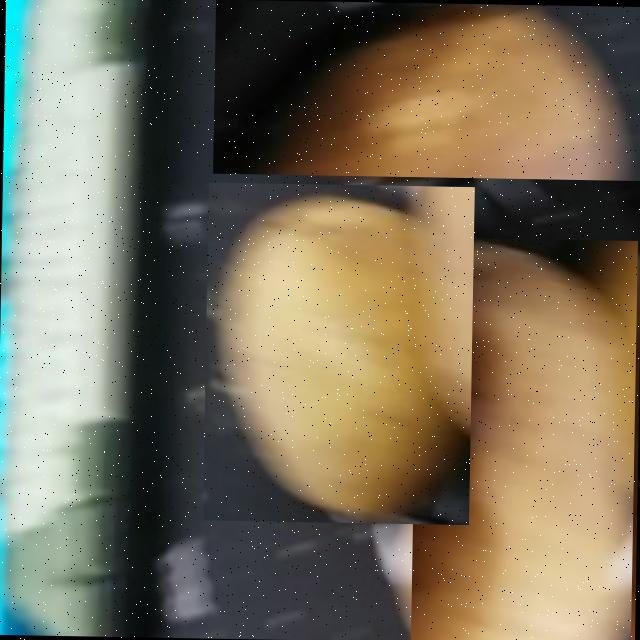Damaged potato: (410, 235, 637, 640), (212, 0, 640, 179)
Potato: (202, 181, 474, 524)
